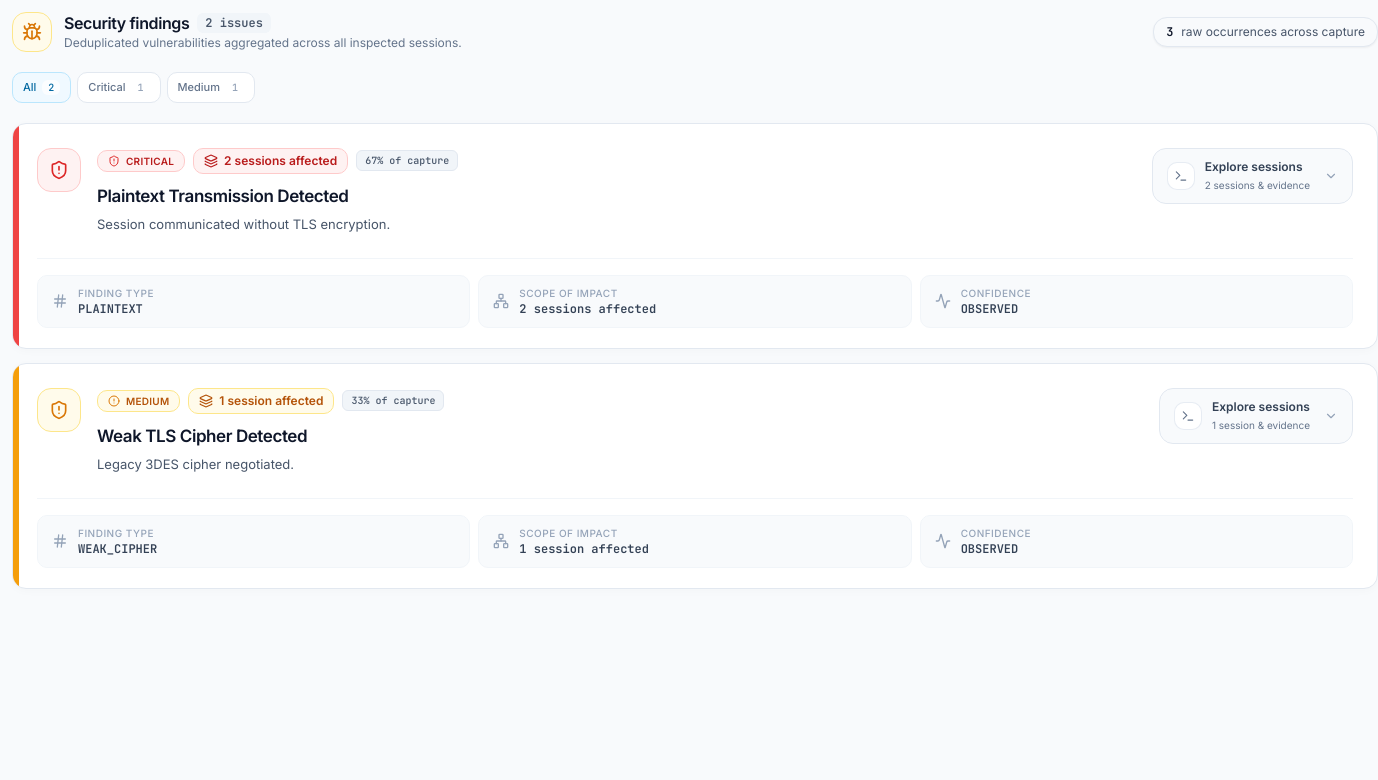
Test: Frontend Component Unit & Integration Tests › FindingsList & GroupedFindingCard › filters grouped findings by severity
The width and height of the screenshot is (1378, 780).
Filter by Medium
Click the button "Medium 1". click: (211, 87)
box: x1=166 y1=72 x2=255 y2=102
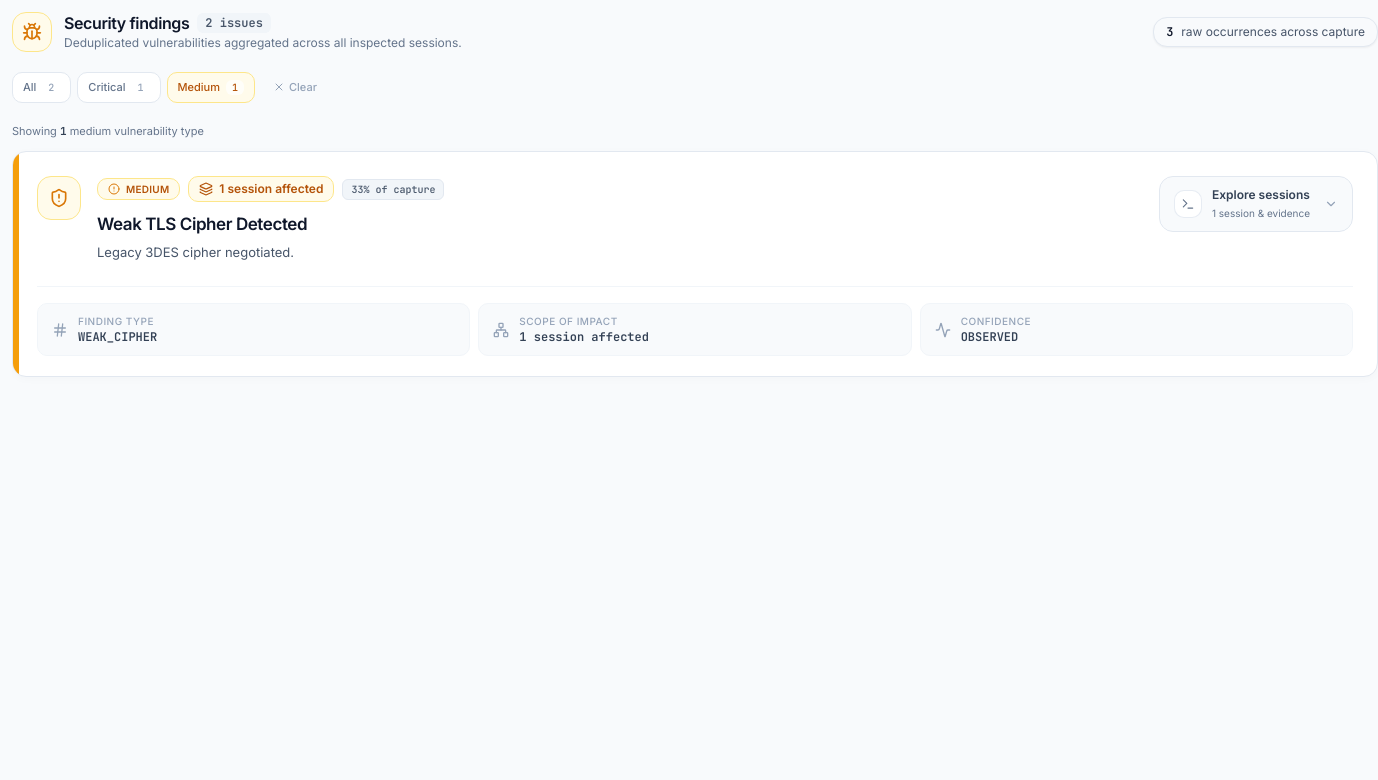
Expected: the heading "Weak TLS Cipher Detected" is shown, x1=97 y1=214 x2=307 y2=234
Now the heading "Plaintext Transmission Detected" is gone
Clear filter
Click the button "Clear". click: (295, 87)
box: x1=265 y1=73 x2=325 y2=102
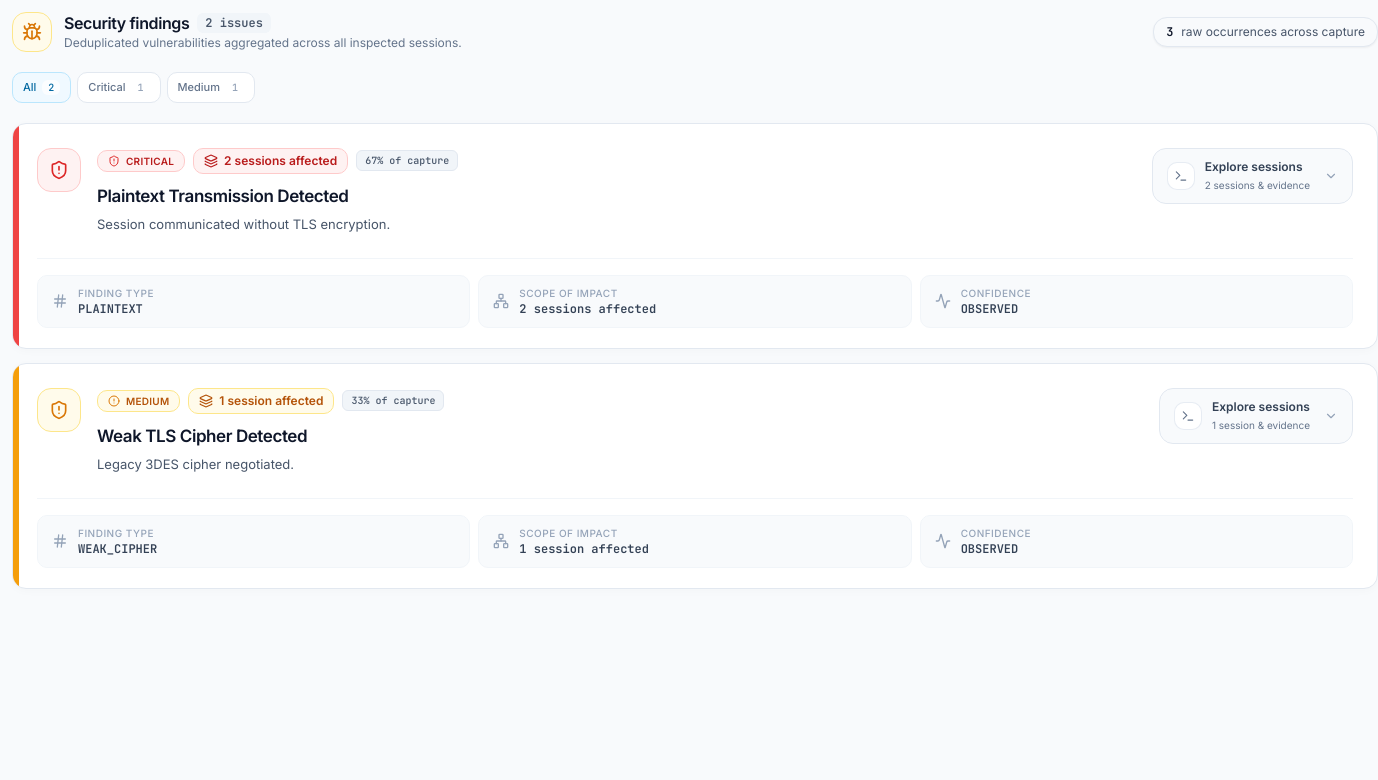
Now the heading "Plaintext Transmission Detected" is shown, box x1=97 y1=186 x2=348 y2=206
